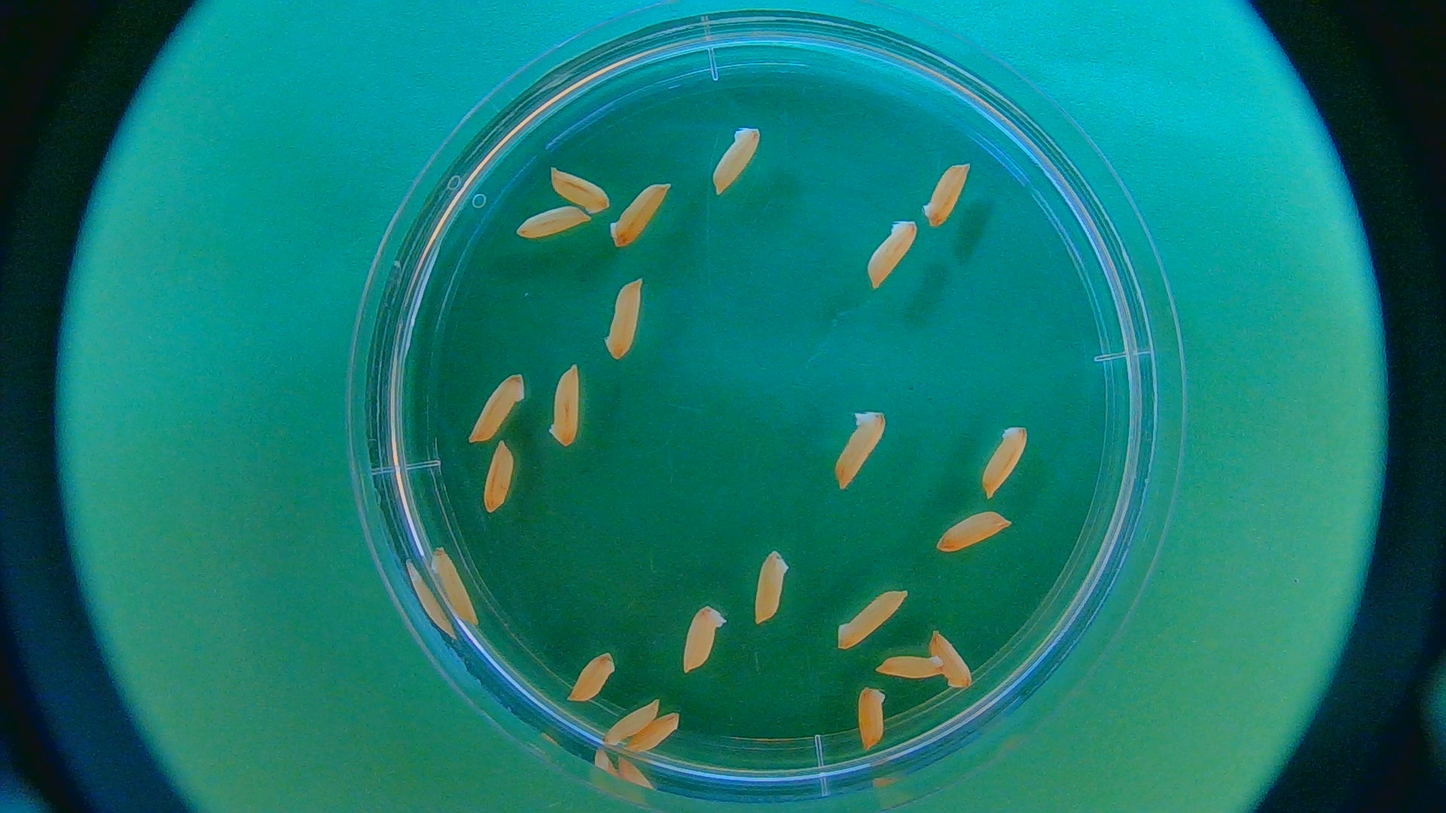no: (464, 368, 527, 443), (835, 588, 905, 653), (429, 547, 480, 633), (608, 181, 670, 249), (834, 411, 885, 491), (867, 219, 919, 289), (981, 425, 1027, 501), (545, 365, 586, 449), (681, 601, 728, 674), (711, 126, 761, 193), (602, 278, 643, 358), (937, 510, 1013, 553), (752, 547, 792, 628), (920, 160, 966, 230), (548, 166, 611, 212), (929, 628, 975, 685), (601, 700, 659, 744), (480, 440, 515, 512), (852, 684, 889, 752), (518, 205, 588, 238), (627, 712, 681, 752), (874, 651, 941, 683), (572, 653, 615, 701)
